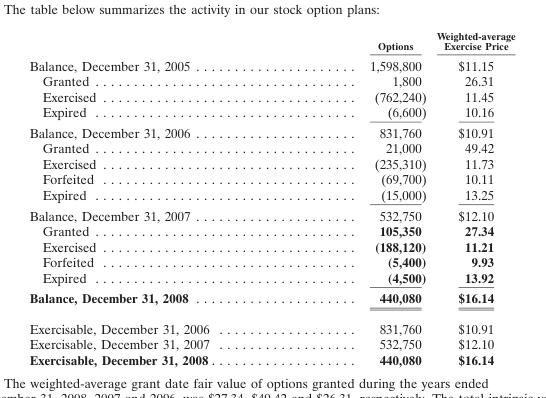table: (28, 28, 514, 366)
table column: (28, 28, 288, 366), (288, 28, 430, 366), (430, 28, 514, 366)
table column header: (28, 28, 514, 54)
table row: (28, 28, 514, 54), (28, 287, 514, 312), (28, 312, 514, 335), (28, 121, 514, 140), (28, 54, 514, 72), (28, 103, 514, 121), (28, 186, 514, 204), (28, 204, 514, 222), (28, 269, 514, 287), (28, 72, 514, 88), (28, 155, 514, 171), (28, 222, 514, 238), (28, 253, 514, 269), (28, 335, 514, 351), (28, 88, 514, 103), (28, 140, 514, 155), (28, 171, 514, 186), (28, 238, 514, 253), (28, 351, 514, 366)
